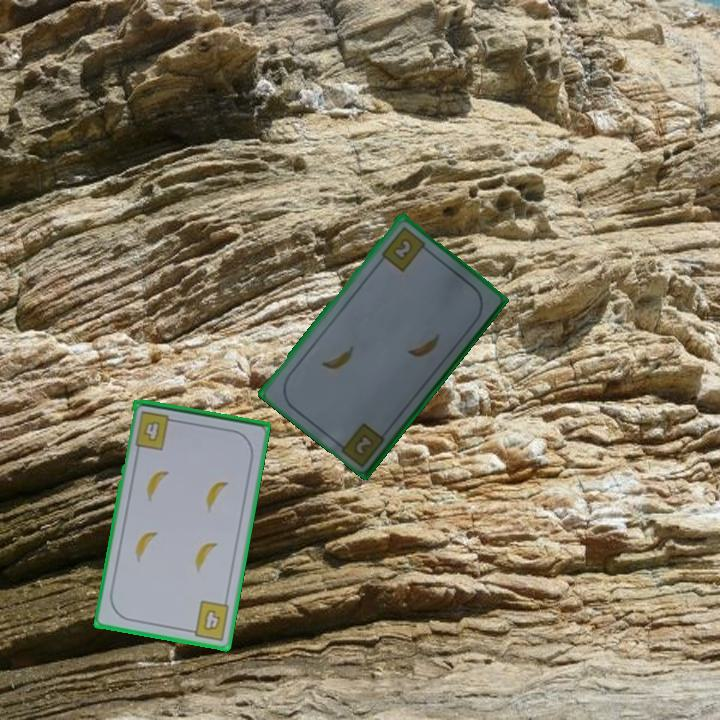2b: (378, 222, 431, 274), (352, 430, 377, 457)
4b: (184, 597, 232, 643), (141, 420, 161, 445)
